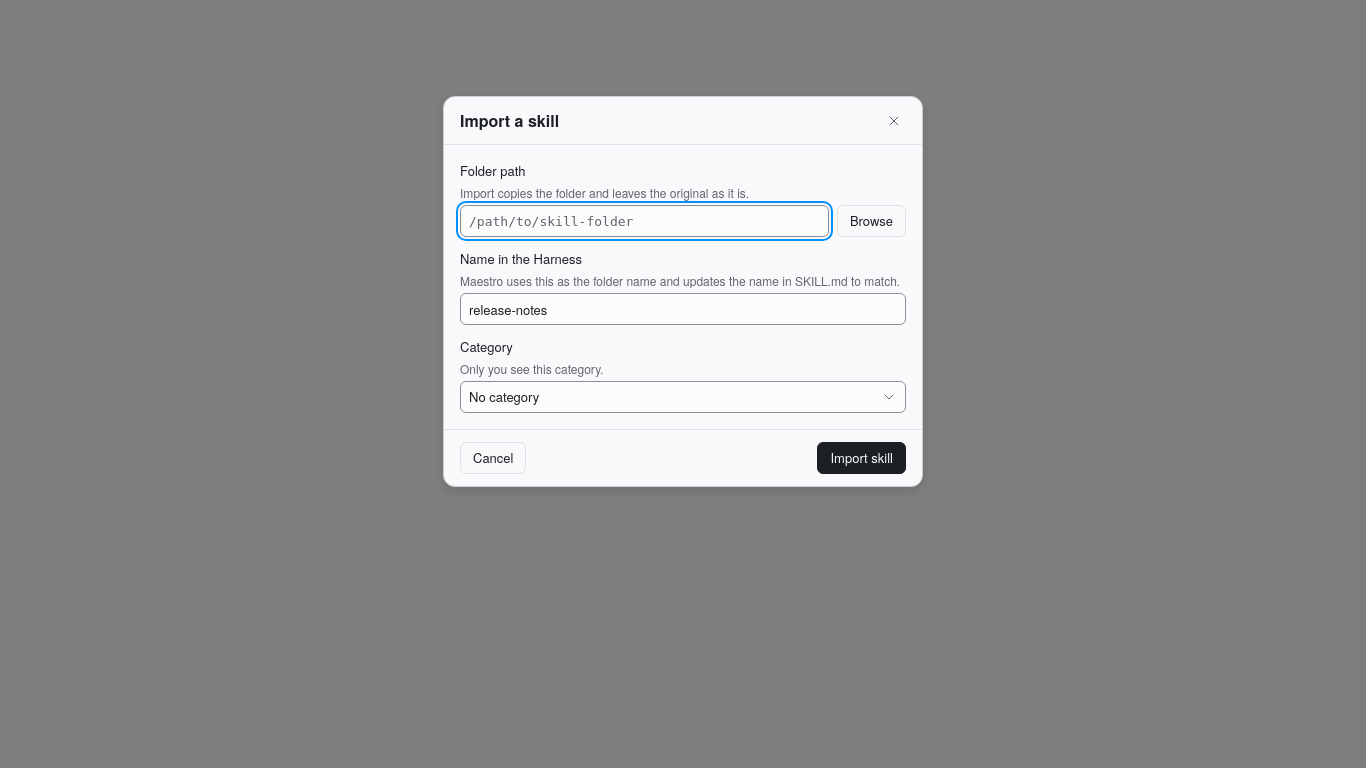
ImportDialog › checks a folder picked through Browse at once
Click the button "Browse" at (871, 221), box [837,205,906,237]
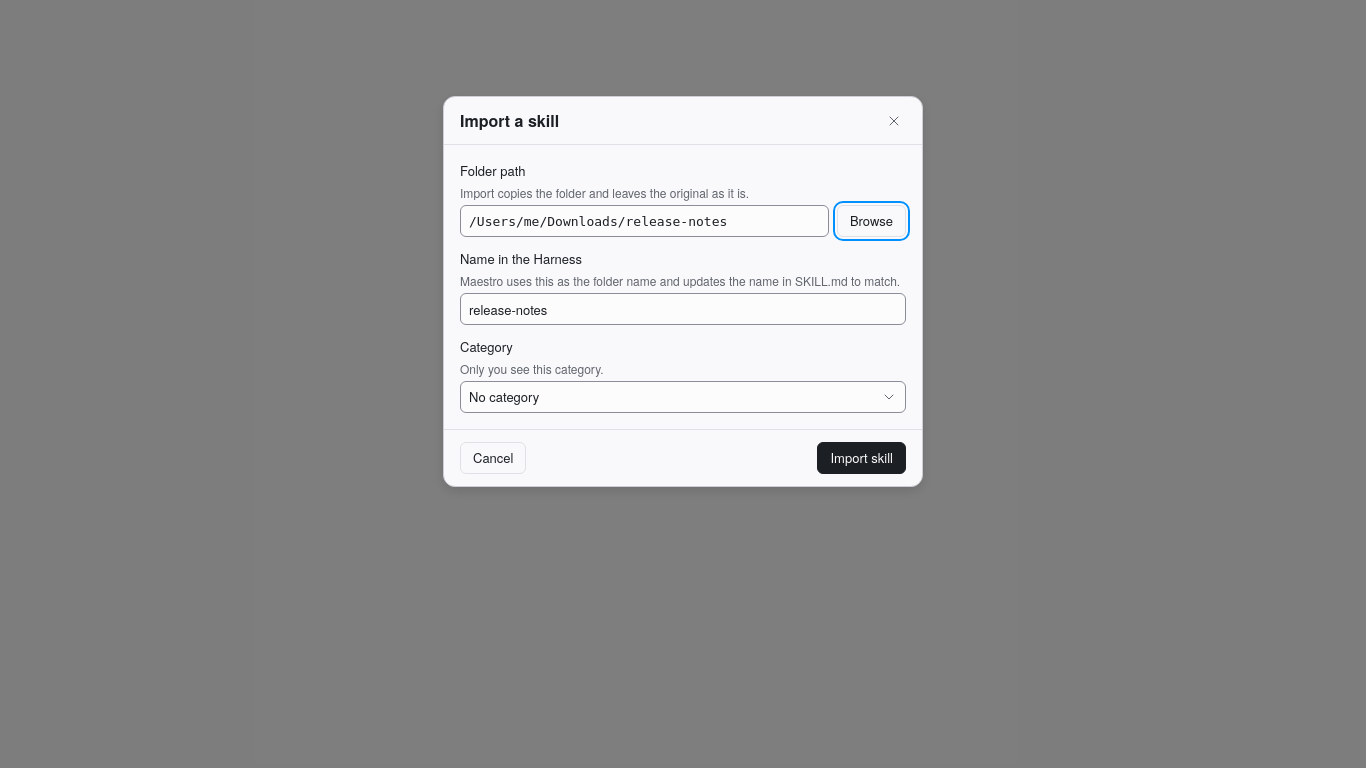
Expected: the field labelled "Folder path" holds "/Users/me/Downloads/release-notes", [460,205,829,237]
